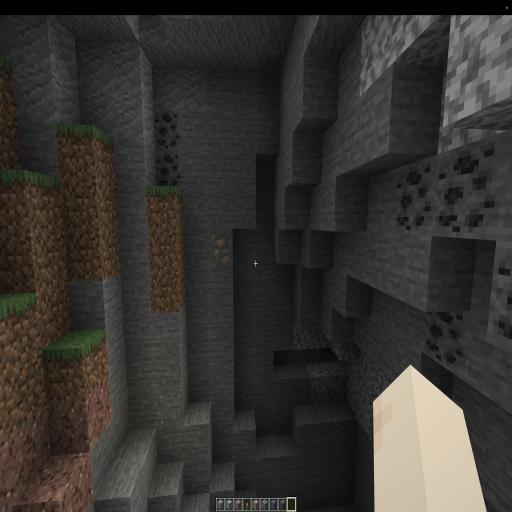coal ore: (154, 112, 182, 188)
iron ore: (393, 145, 512, 368), (208, 226, 234, 269)
